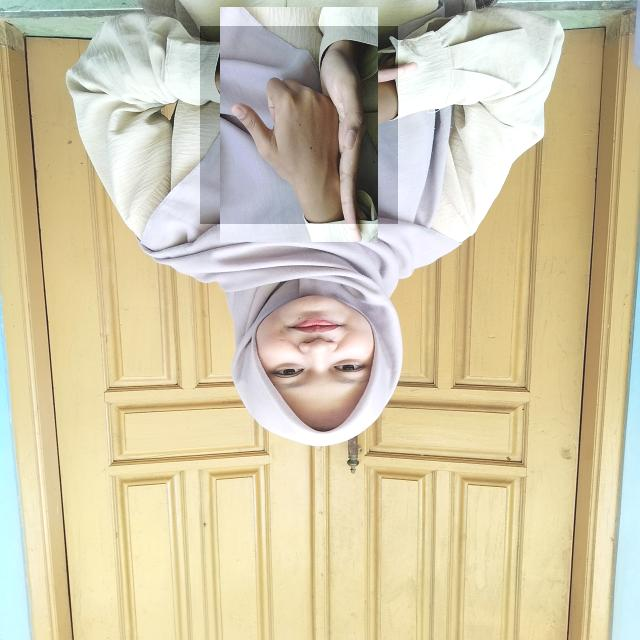cantik: (200, 26, 398, 224)
